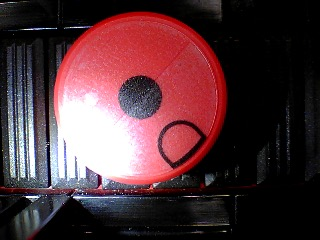BOHOMIPO1: (53, 11, 227, 185)
